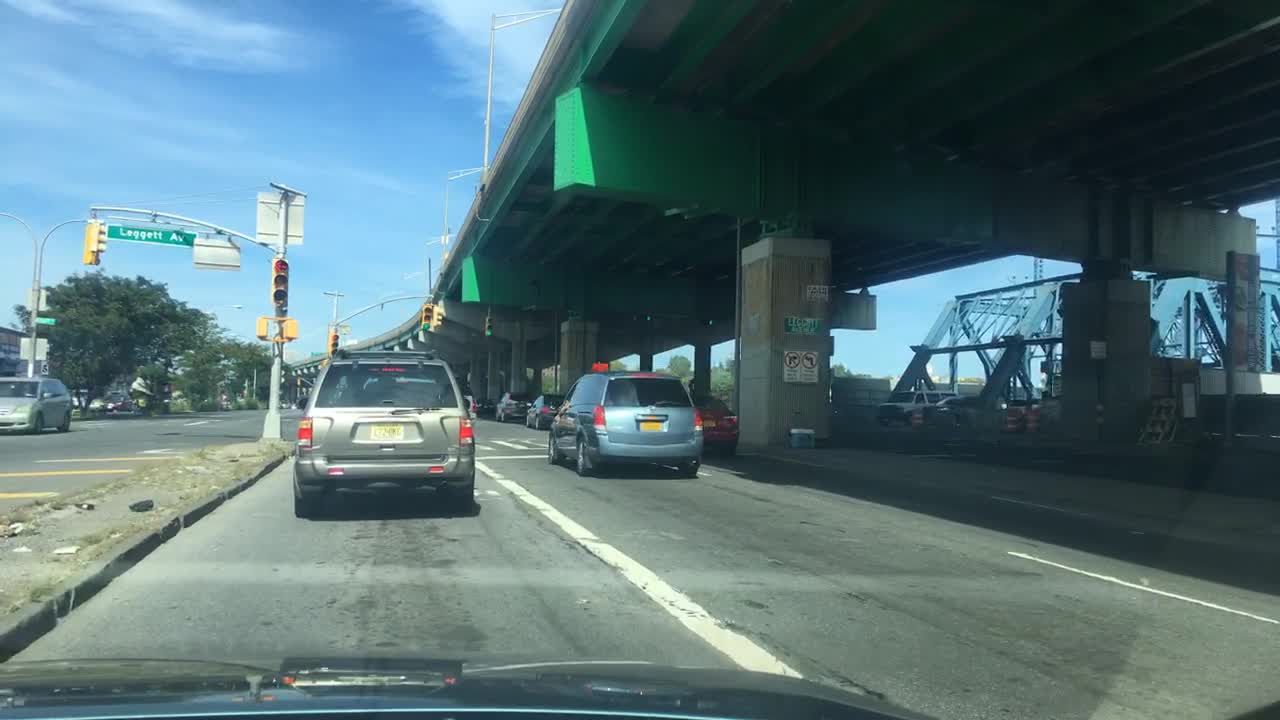car: (291, 346, 476, 517), (546, 367, 705, 474), (0, 373, 72, 433), (923, 392, 1012, 428), (685, 389, 742, 445), (875, 387, 958, 424), (523, 392, 566, 428), (490, 387, 534, 421), (1013, 395, 1044, 422), (462, 393, 494, 415), (98, 389, 131, 410), (72, 386, 96, 409), (84, 395, 107, 410), (278, 393, 298, 407)
traffic light: (271, 255, 286, 309), (81, 229, 95, 265), (88, 219, 99, 263), (326, 329, 340, 358), (255, 314, 271, 337), (482, 312, 494, 334), (422, 298, 431, 327), (283, 321, 300, 335), (434, 306, 444, 326)
traffic sign: (257, 193, 304, 242), (101, 223, 197, 242), (193, 239, 242, 272), (15, 334, 46, 358), (785, 315, 823, 334), (799, 350, 817, 382), (782, 352, 799, 379), (805, 285, 829, 298), (1087, 340, 1106, 355), (32, 315, 53, 323)
